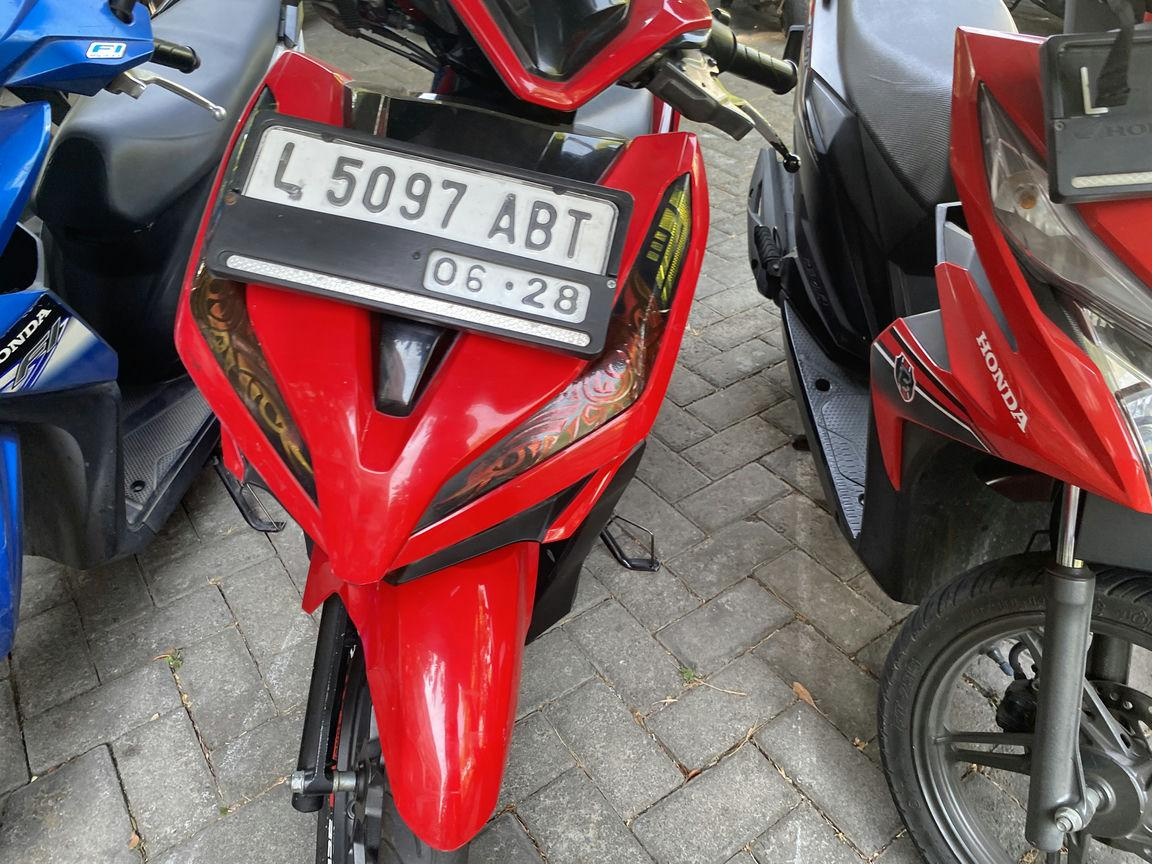plat: (205, 113, 632, 356)
